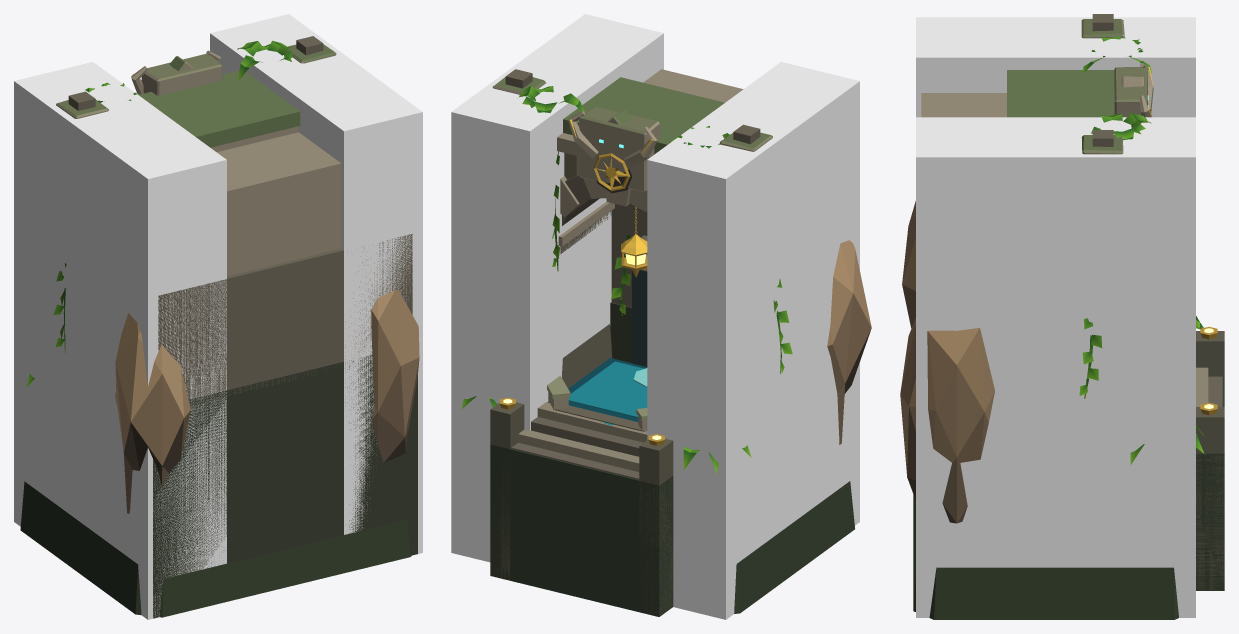
File: cliffside_waterfall_shrine.glb
3 views of the same model, side by side, from view 1: azimuth 30°, elevation 25°; view 2: azimuth 150°, elevation 25°; view 3: azimuth 270°, elevation 25° (orthographic). The views are drawn at different scales.
Parts seen in each view (by area): view 1: CliffsideWaterfallShrine, col_shrine_left, col_shrine_right; view 2: col_shrine_left, CliffsideWaterfallShrine, col_shrine_right; view 3: col_shrine_right, CliffsideWaterfallShrine, col_shrine_left.
Part boxes in pixels (x1,y1,x2,y2): CliffsideWaterfallShrine: (20, 36, 419, 618); col_shrine_left: (14, 62, 226, 619); col_shrine_right: (210, 14, 422, 553); col_shrine_left: (647, 62, 859, 619); CliffsideWaterfallShrine: (461, 69, 871, 616); col_shrine_right: (451, 14, 663, 562); col_shrine_right: (916, 117, 1195, 617); CliffsideWaterfallShrine: (900, 14, 1224, 619); col_shrine_left: (916, 17, 1195, 117).
Size of the model in its own units: 10.08 by 14.6 by 9.1.
